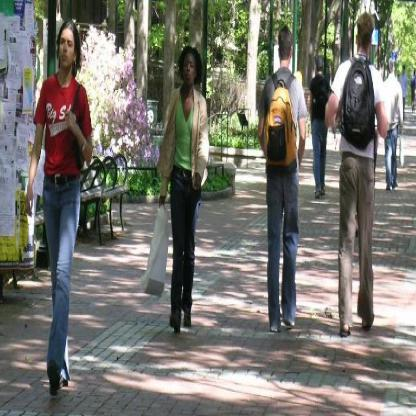person: (23, 19, 99, 396), (327, 14, 391, 335), (245, 23, 307, 336), (146, 41, 204, 344)
